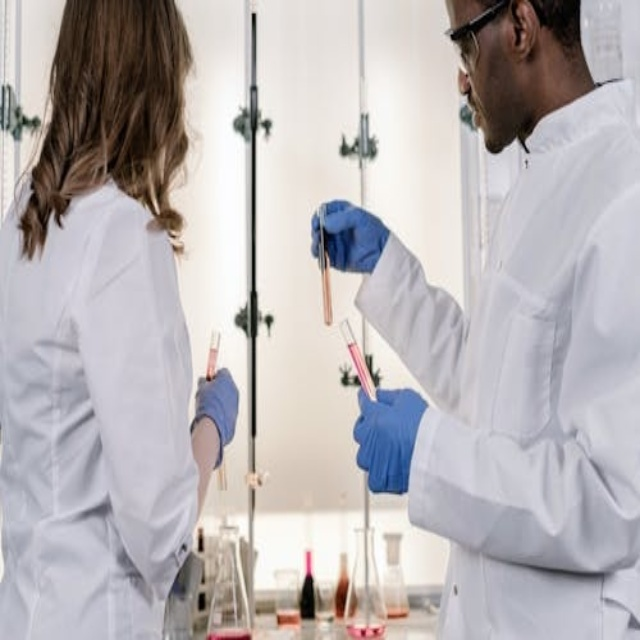Gafas: (444, 0, 518, 70)
Guantes: (351, 379, 424, 494), (306, 194, 387, 276), (193, 370, 239, 464)
Sin_mascara: (458, 80, 500, 151)
